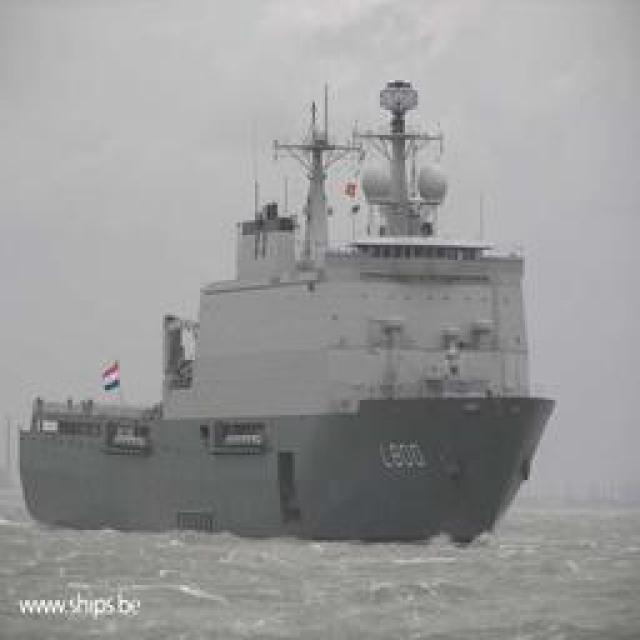Ship: (88, 42, 543, 540)
